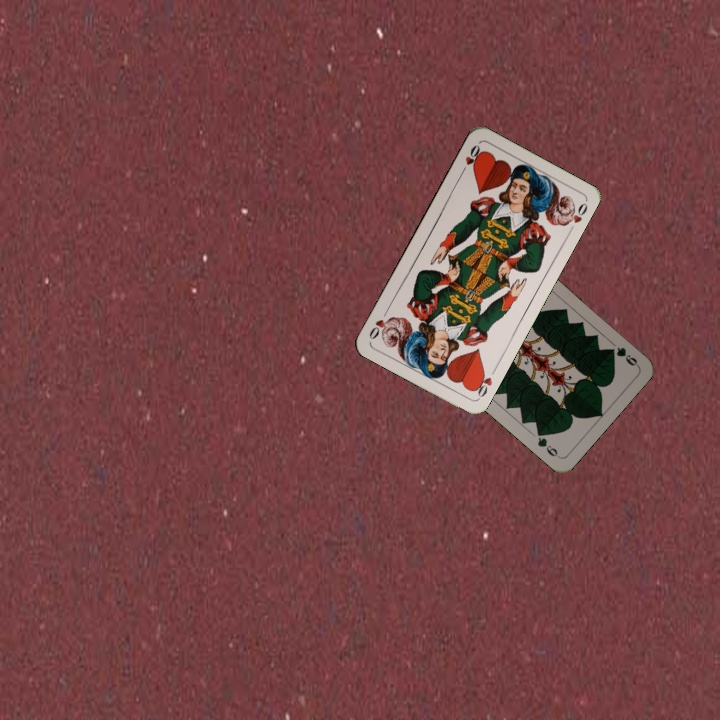G9: (605, 343, 641, 369)
HO: (469, 364, 499, 401), (457, 141, 484, 177)
